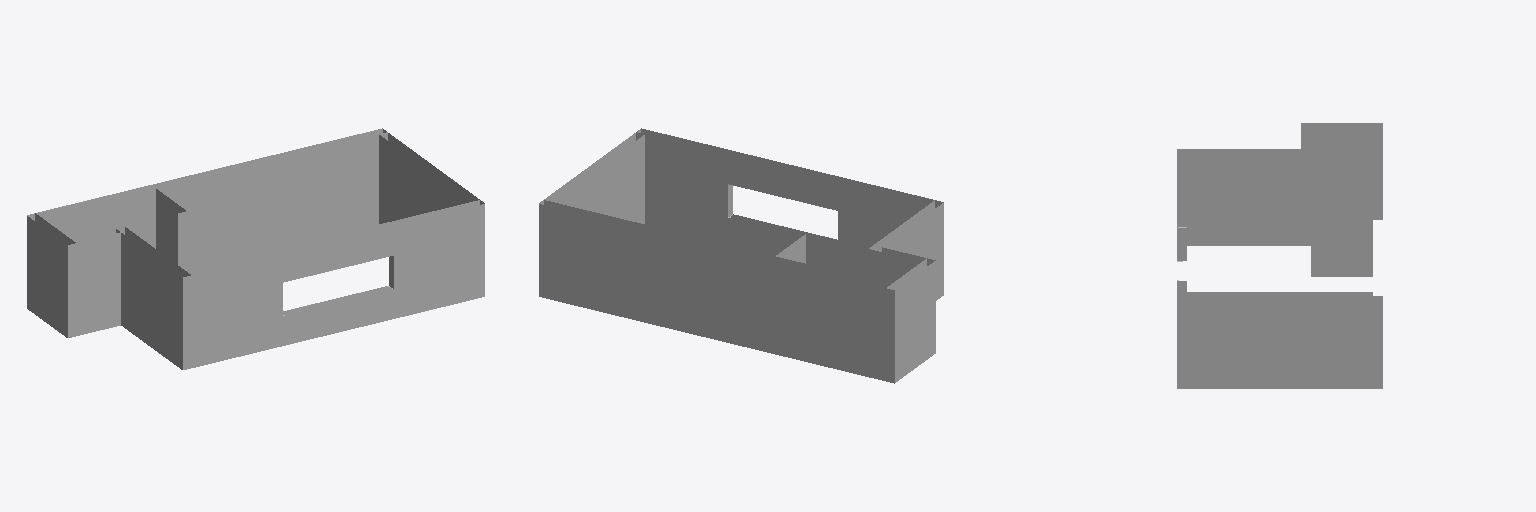
The model's file is paredes_novas.obj.
3 views of the same model, side by side, from view 1: azimuth 30°, elevation 25°; view 2: azimuth 150°, elevation 25°; view 3: azimuth 270°, elevation 25° (orthographic).
Parts seen in each view (by area): view 1: parede_1; view 2: parede_1; view 3: parede_1.
Boxes of the visible parts, box(x1,y1,x2,y2) form: parede_1: box(27, 128, 484, 369); parede_1: box(539, 128, 943, 383); parede_1: box(1177, 123, 1382, 388).
Size of the model in its own units: 40 by 10 by 20.